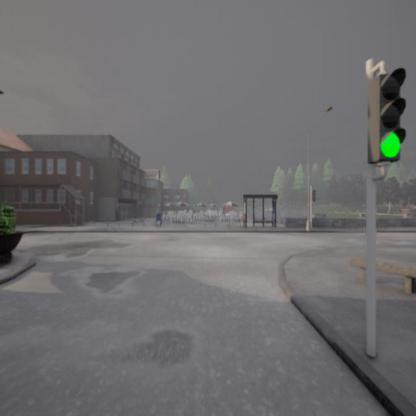traffic_light_green: (377, 69, 406, 165)
